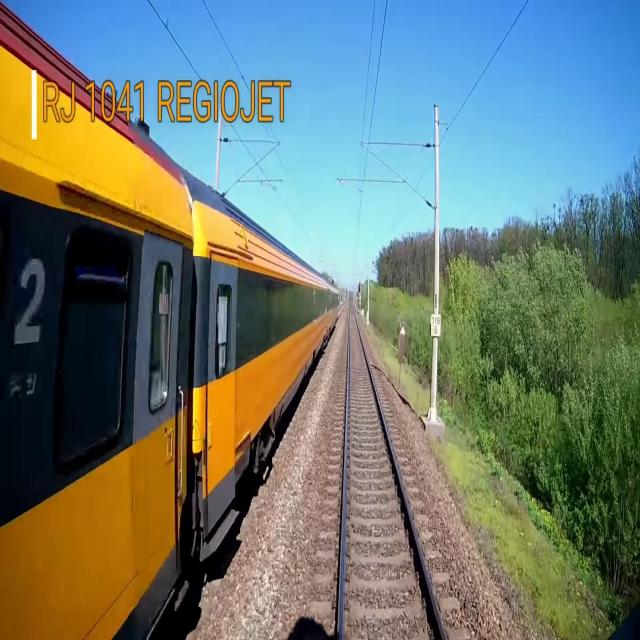rail-track: (344, 302, 442, 639)
